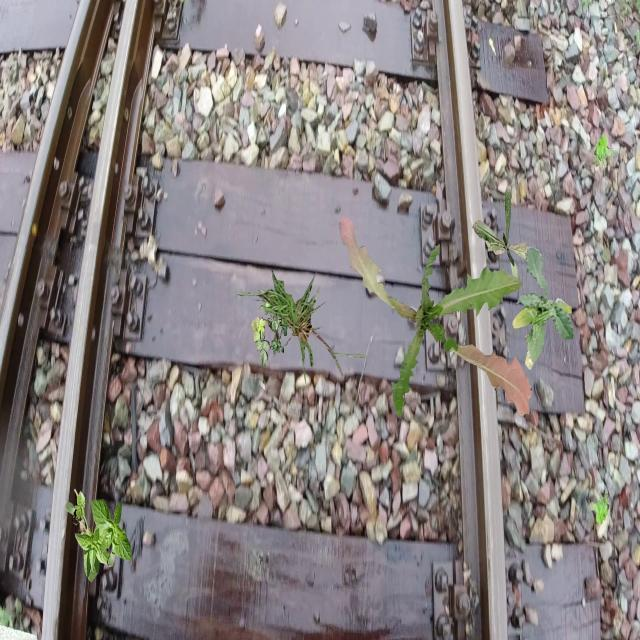Plant: (339, 216, 532, 418), (224, 269, 368, 388), (512, 246, 574, 370), (472, 187, 536, 299), (66, 488, 114, 583), (91, 497, 132, 568), (251, 293, 288, 366), (589, 493, 610, 526), (594, 134, 614, 167)
